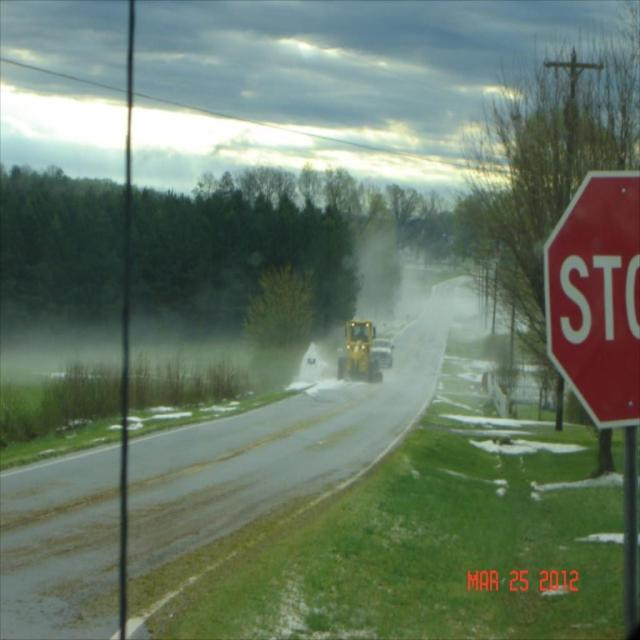Stop-sign: (542, 171, 639, 433)
